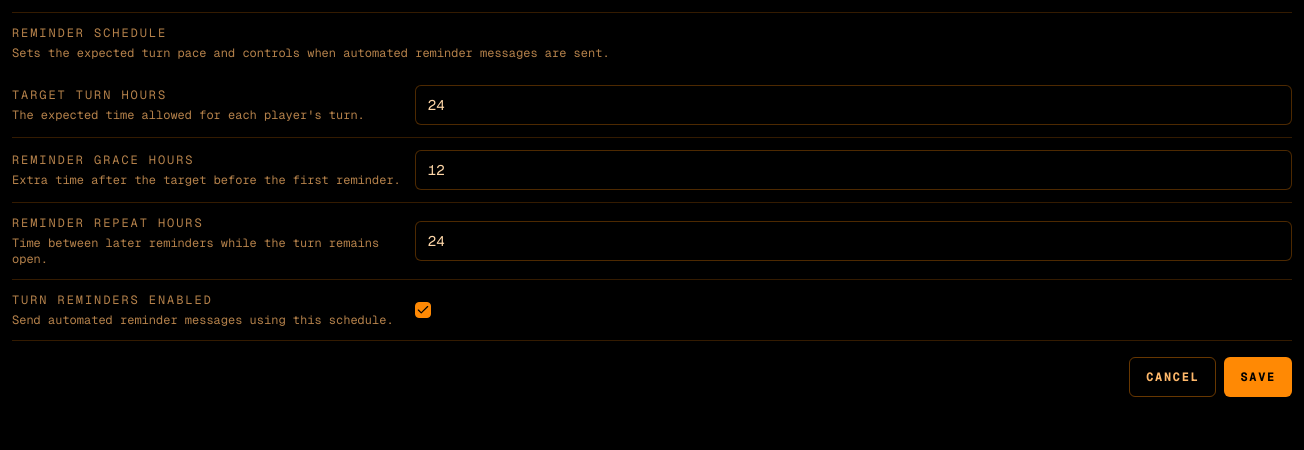
CampaignSettingsEditor › rejects invalid Target turn hours values without fetching
Replace the text in the number field labelled "Target turn hours" with "1.5": (853, 105) [415,85,1292,125]
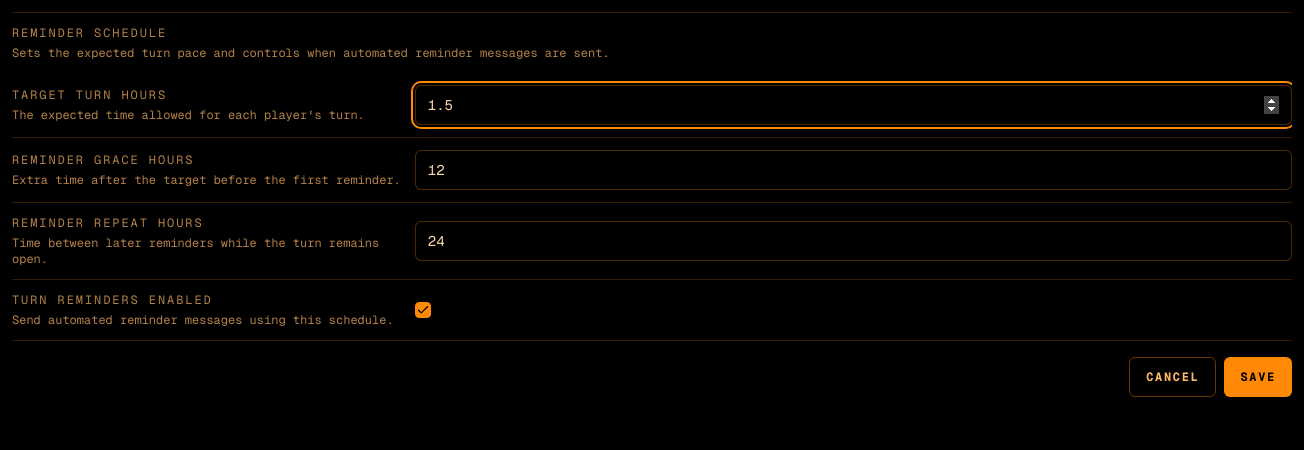
Click the button "Save": (1258, 377) [1224,357,1292,397]
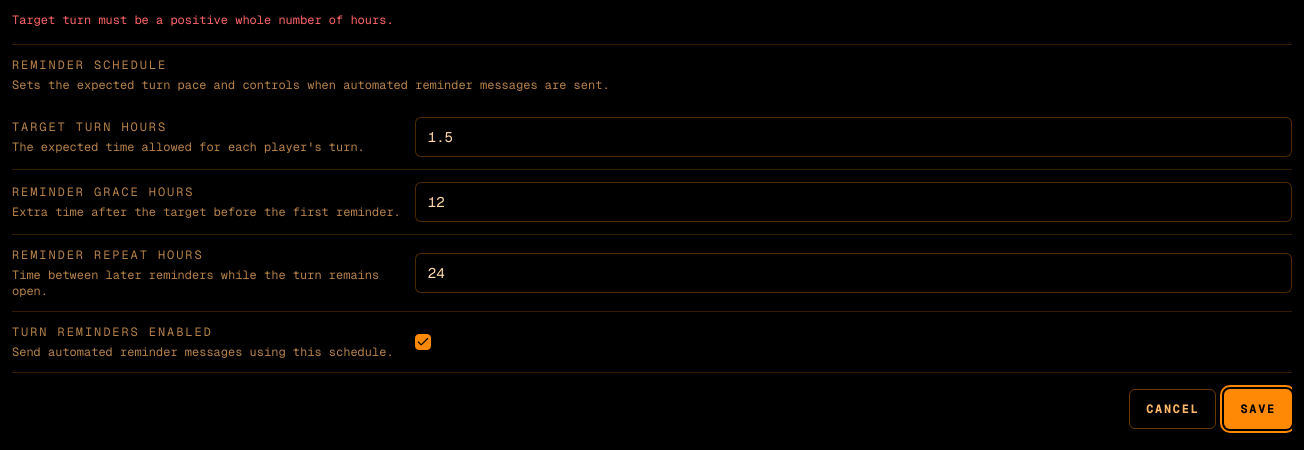
Check: the message shows "Target turn", box [12,12,394,28]
